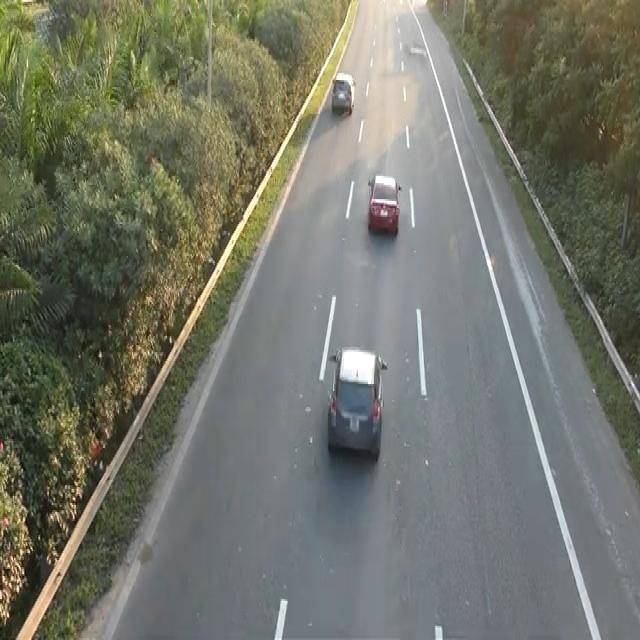bus: (366, 170, 402, 237), (330, 70, 355, 116)
lorry: (324, 341, 390, 466)
